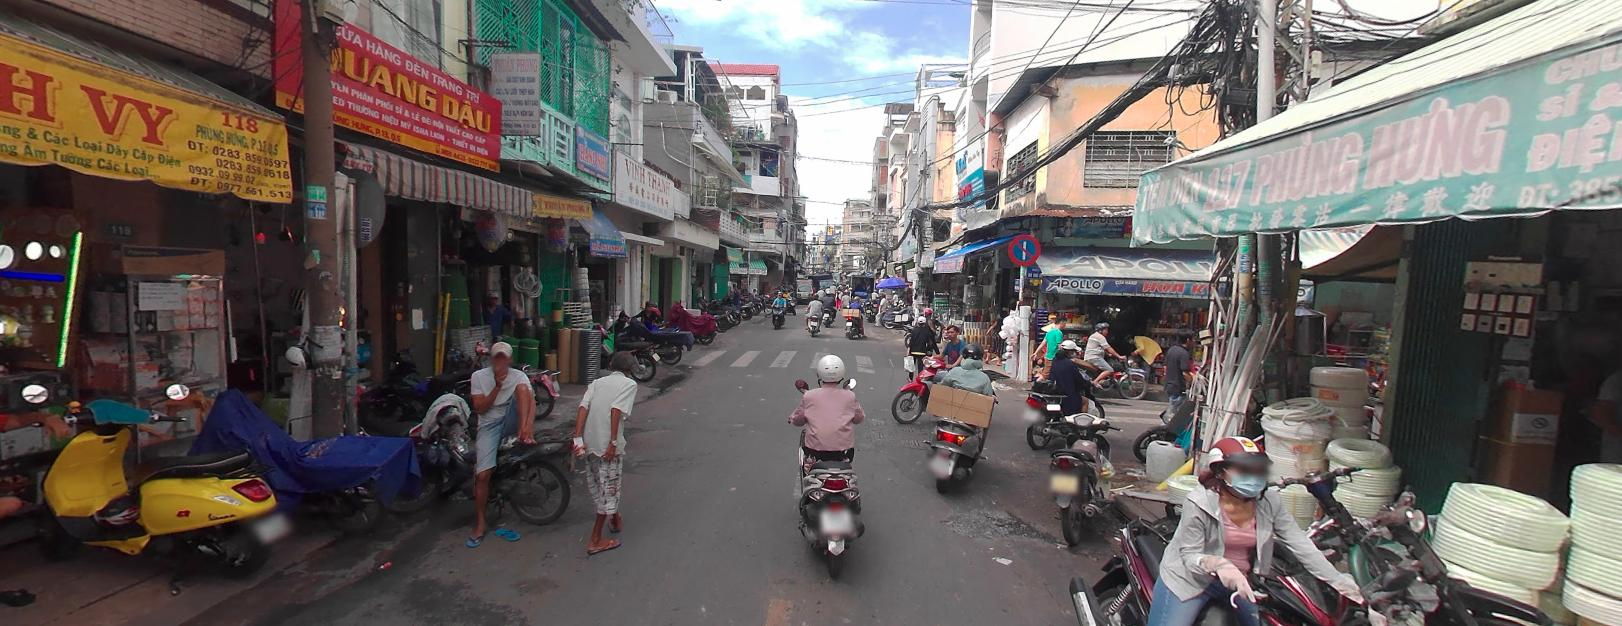Cam dung va do: (1007, 229, 1041, 264)
